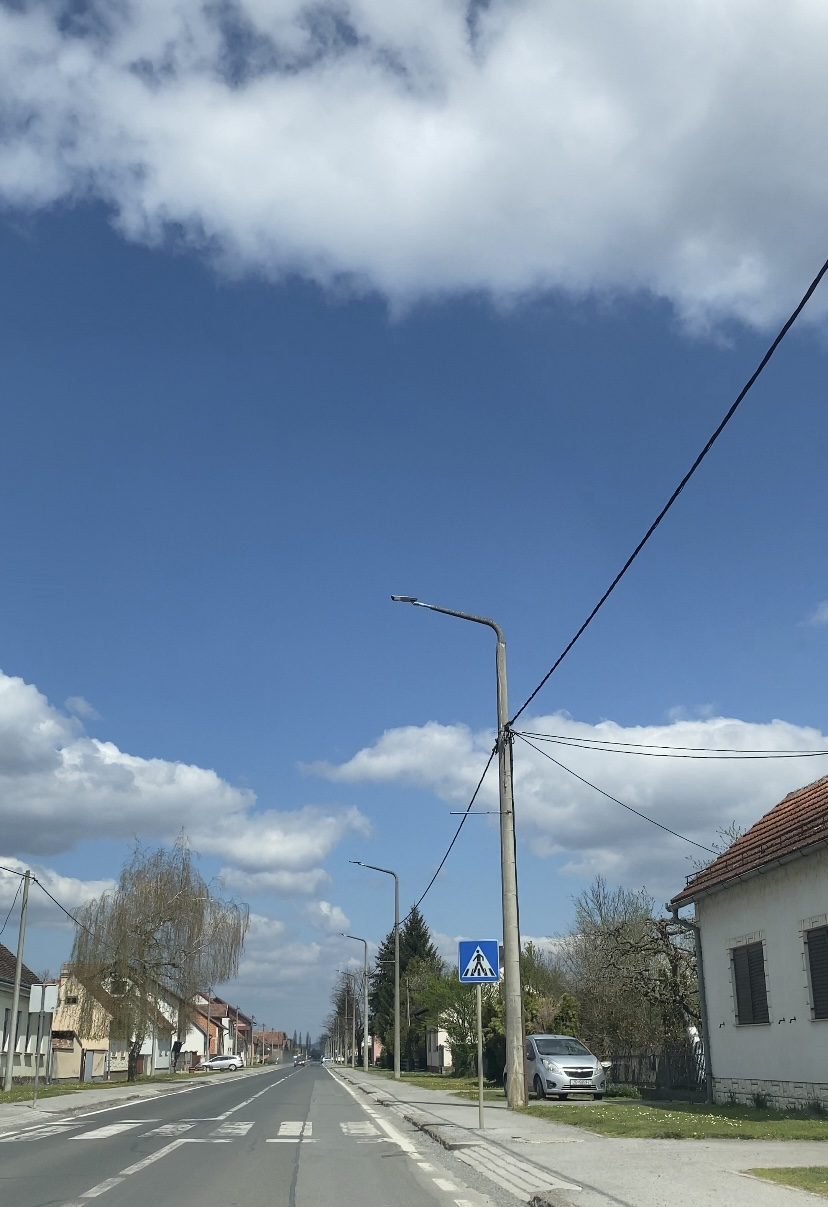Pješački prijelaz: (458, 940, 500, 983)
